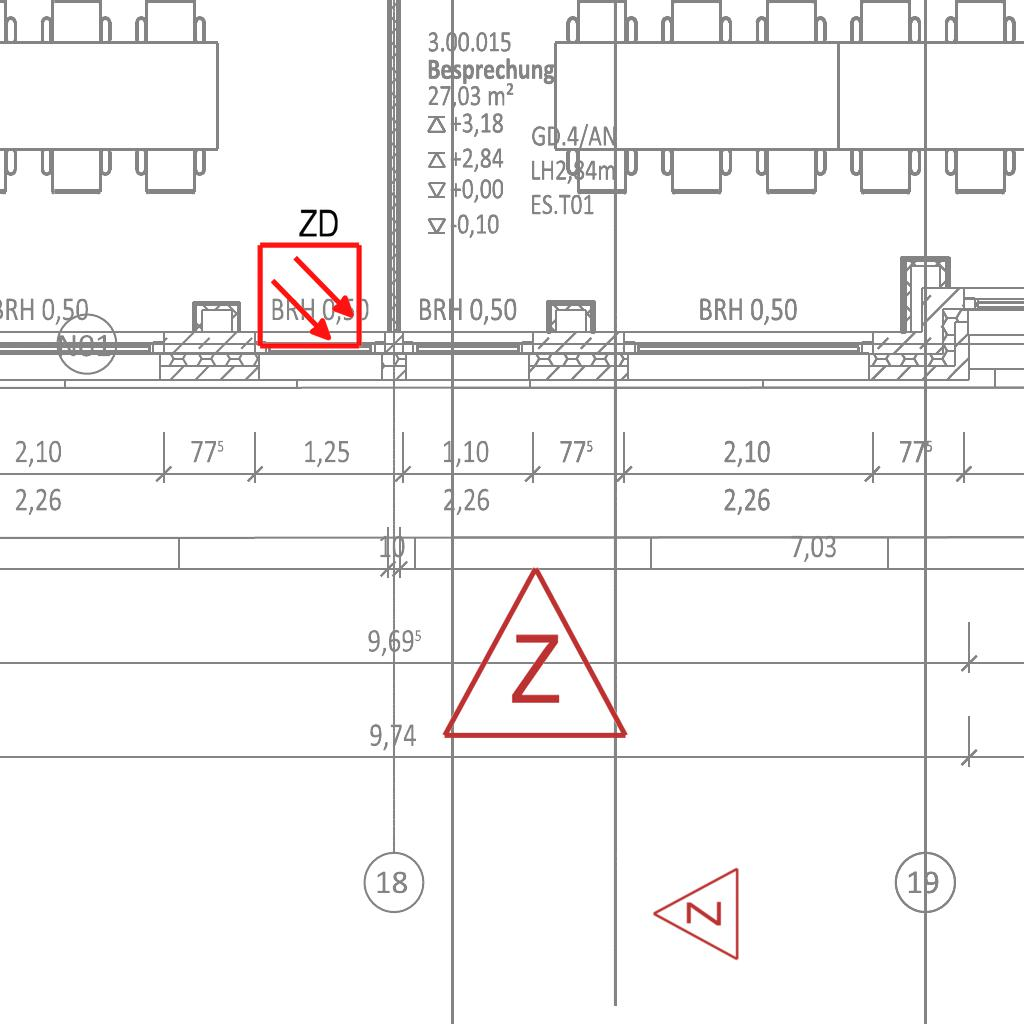ZD_Melder_in_Zwischendecke_mit_Revisionsoeffnung_mind_40_x_40_cm: (251, 202, 365, 351)
Zimmersignalleuchte: (435, 553, 631, 753), (646, 866, 746, 964)
